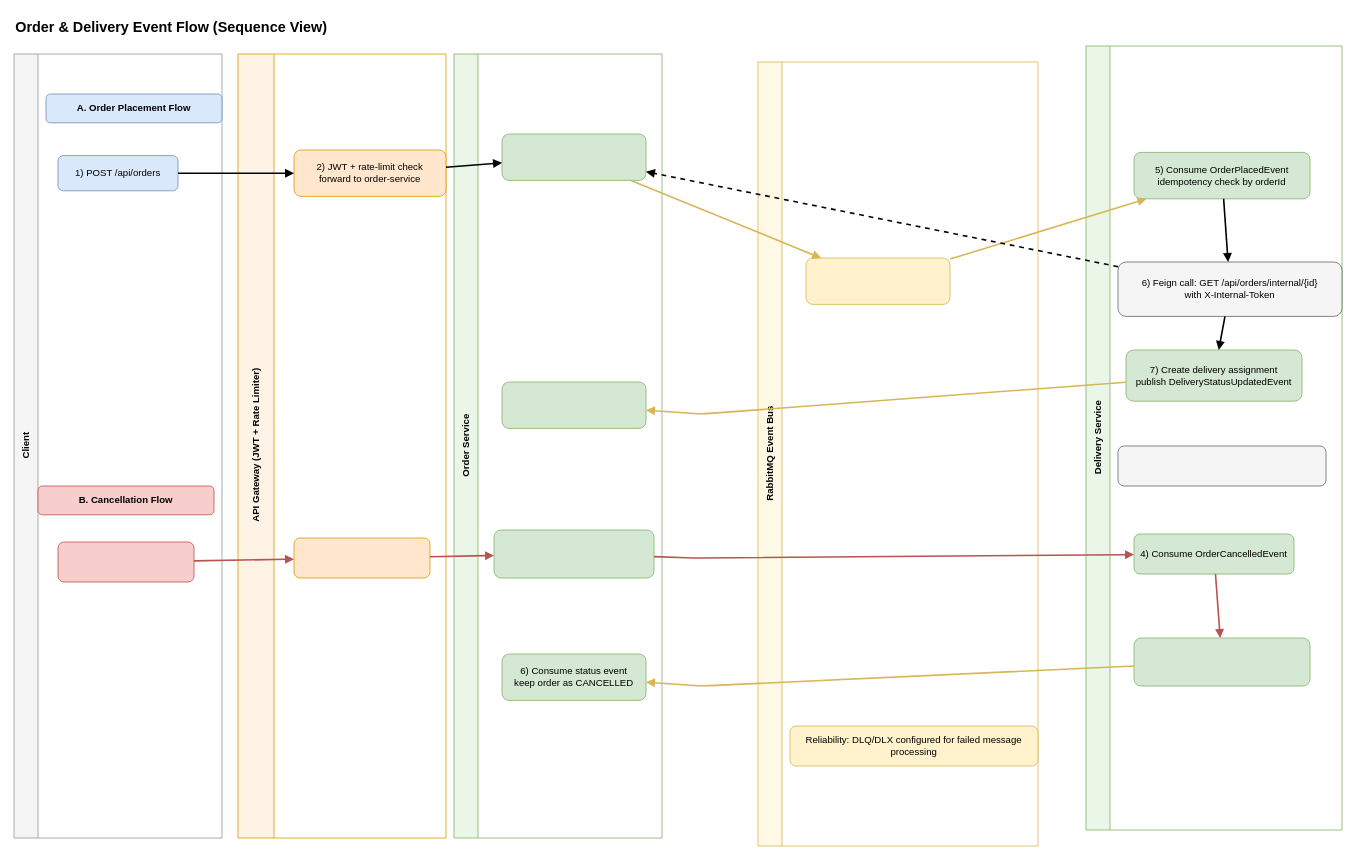
Some shapes in this 1356 by 860 pixel diagram are drawn without their labels. Each missing label, with the centre of its shape:
1) POST /api/orders/{id}/cancel: the point at 125,561
2) Forward cancel request: the point at 361,557
3) Persist order status = PLACED: the point at 573,156
3) Set order status = CANCELLED publish OrderCancelledEvent: the point at 573,553
4) Publish OrderPlacedEvent: the point at 877,280
5) Mark delivery FAILED publish DeliveryStatusUpdatedEvent: the point at 1221,661
8) Consume delivery status update order state: the point at 573,404
Fallback: if Feign order lookup fails, Delivery uses event payload: the point at 1221,465
